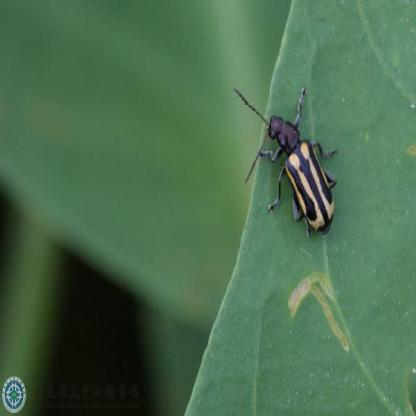beetle: (241, 92, 341, 240)
